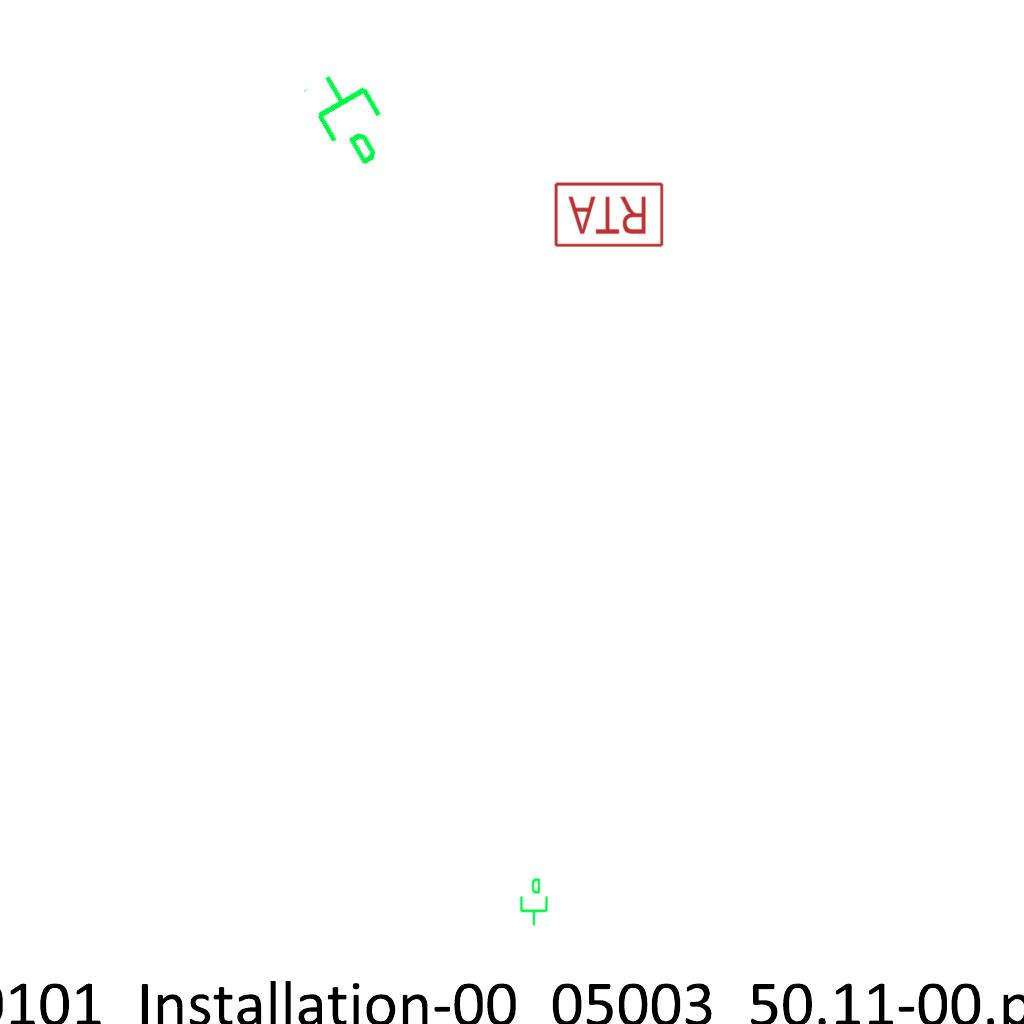Datenanschluss_einfach: (297, 56, 408, 178), (516, 877, 550, 927)
Ruf-und_Abstelltaster: (553, 180, 667, 249)
